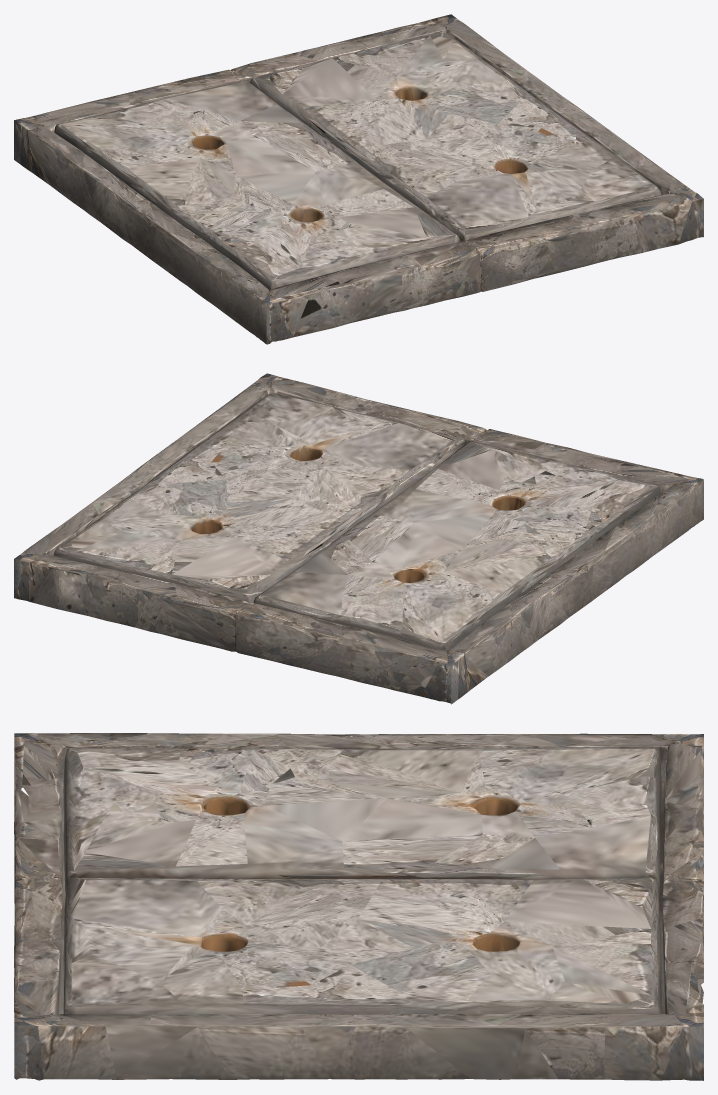
The model's file is drainage_cover.glb.
3 renders of one model, top to bottom at view 1: azimuth 30°, elevation 25°; view 2: azimuth 150°, elevation 25°; view 3: azimuth 270°, elevation 25°, orthographic. The views are drawn at different scales.
Visible parts, largest first — view 1: Mesh0; view 2: Mesh0; view 3: Mesh0.
Part boxes in pixels (x1,y1,x2,y2): Mesh0: [14, 14, 703, 344]; Mesh0: [14, 373, 703, 704]; Mesh0: [14, 733, 703, 1080].
Size of the model in its own units: 1 by 0.0996 by 1.
1 material, 1 textured.
